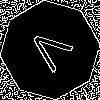V: (25, 25, 81, 79)
